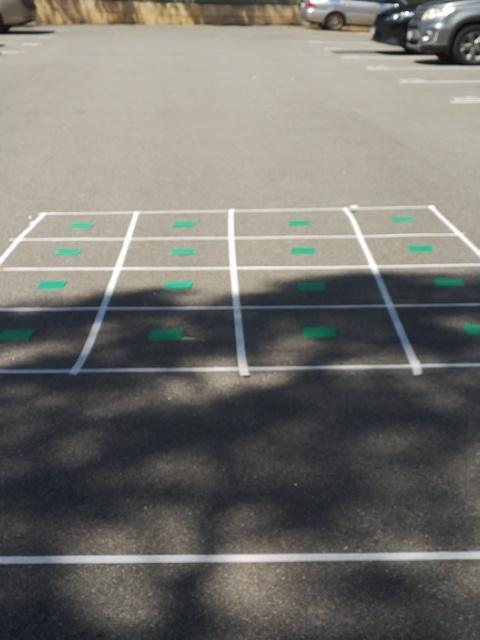weed: (147, 328, 185, 344), (301, 325, 337, 340), (0, 326, 35, 341), (297, 280, 326, 293), (36, 280, 67, 291), (163, 280, 192, 291), (433, 277, 464, 287), (54, 248, 82, 257), (169, 247, 196, 256), (290, 247, 317, 256), (407, 245, 434, 253), (464, 322, 480, 335), (70, 221, 93, 229), (172, 220, 195, 228), (289, 220, 308, 228), (391, 217, 415, 223)
